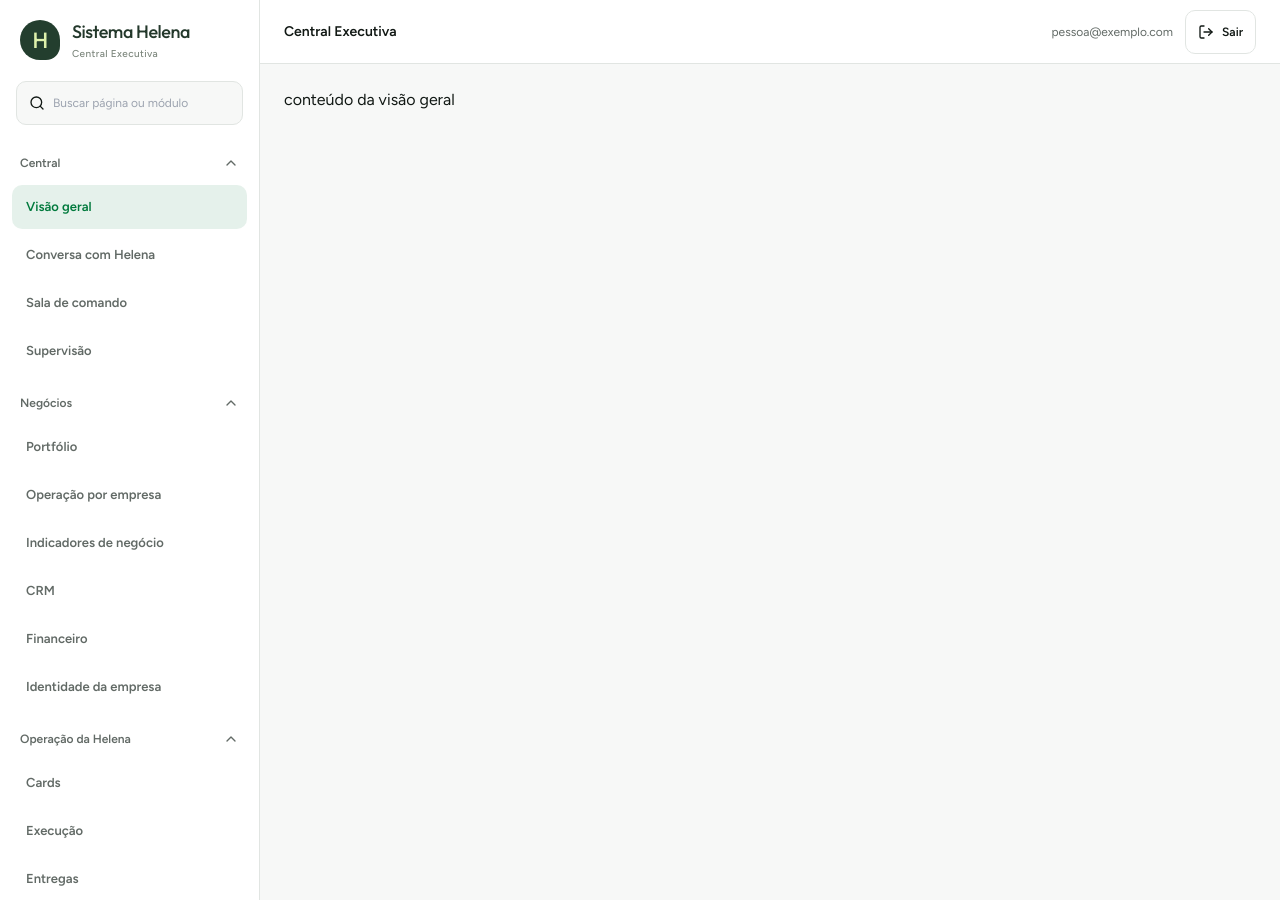
Test: menu da v2 › busca encontra módulo de grupo fechado e limpar restaura o menu
The image size is (1280, 900).
Type "memoria" into the field labelled "Buscar página ou módulo" at (142, 102), box [53,82,230,122]
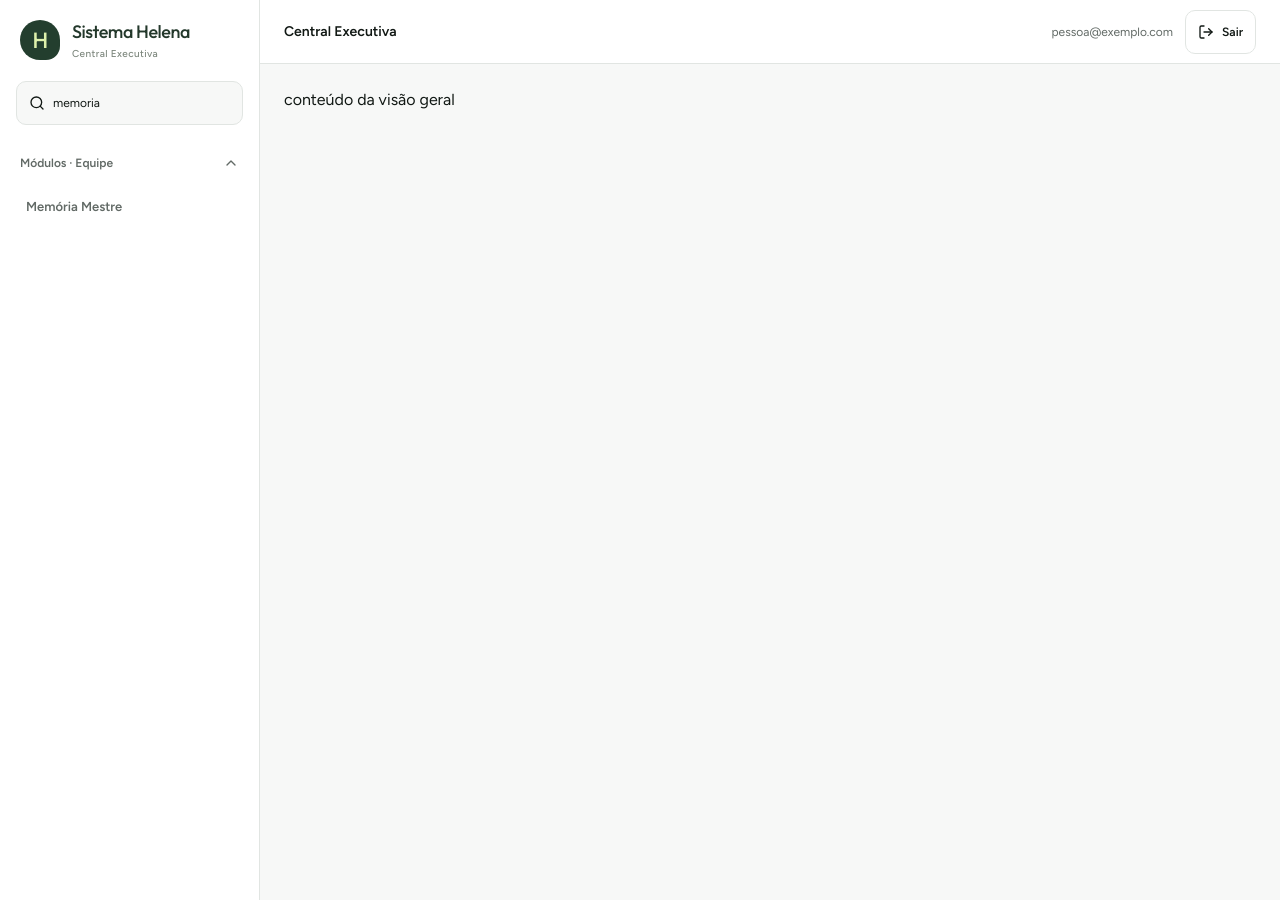
Check: no links "Financeiro" are shown
Clear the field named "Buscar página ou módulo" at (142, 102), box [53,82,230,122]
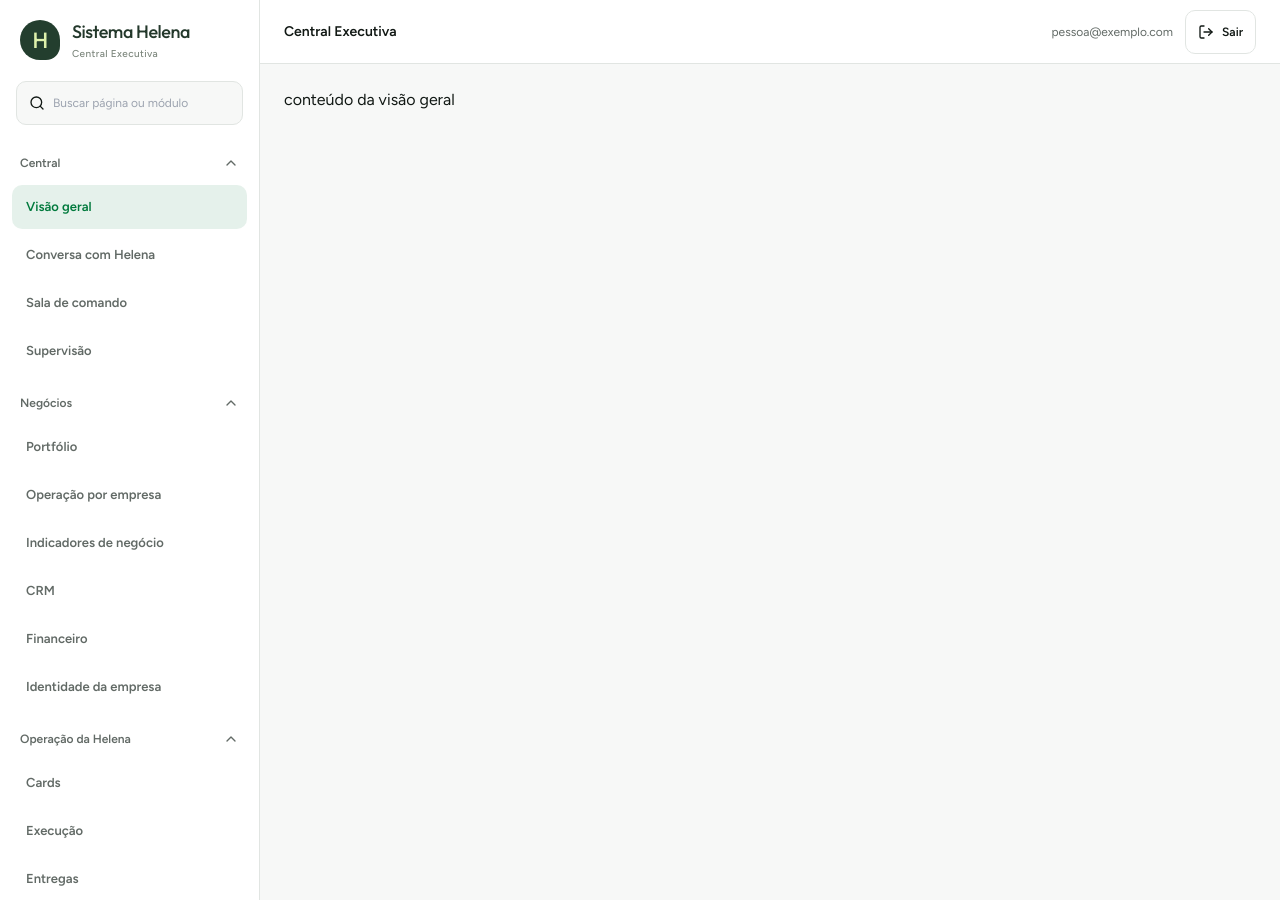
Check: the number of links "Financeiro" is 1, box [26,631,88,646]
